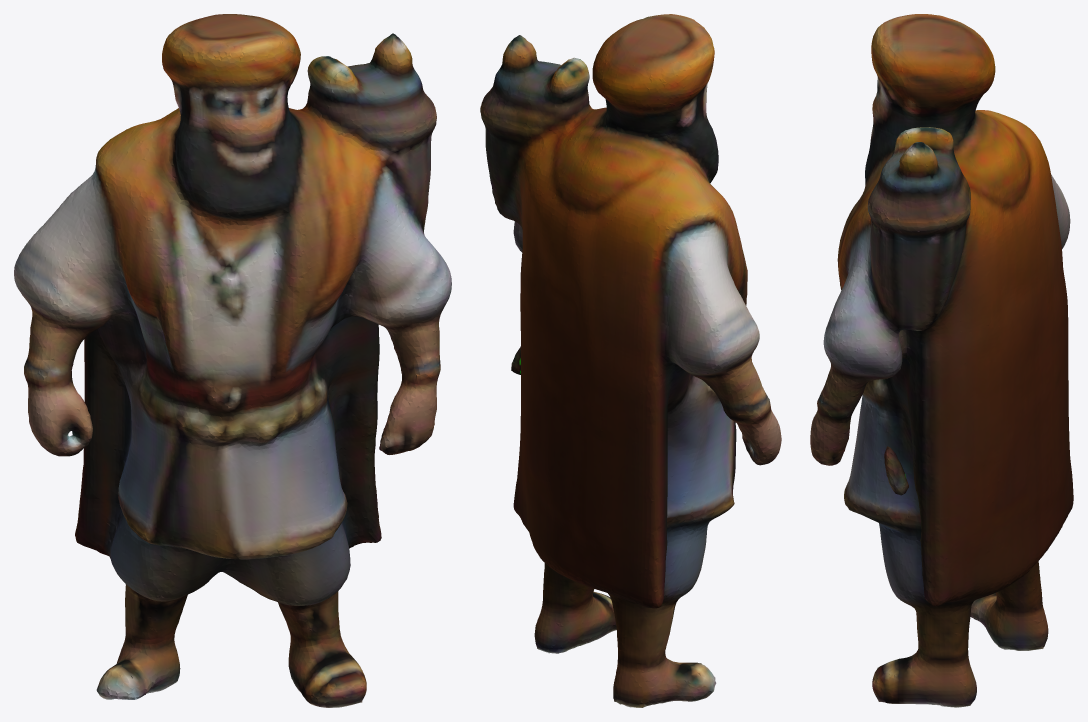
The model's file is mesh_with_colors.obj.
3 renders of one model, left to right at view 1: azimuth 30°, elevation 25°; view 2: azimuth 150°, elevation 25°; view 3: azimuth 270°, elevation 25°, orthographic. The views are drawn at different scales.
Size of the model in its own units: 0.5688 by 1.05 by 0.397.
